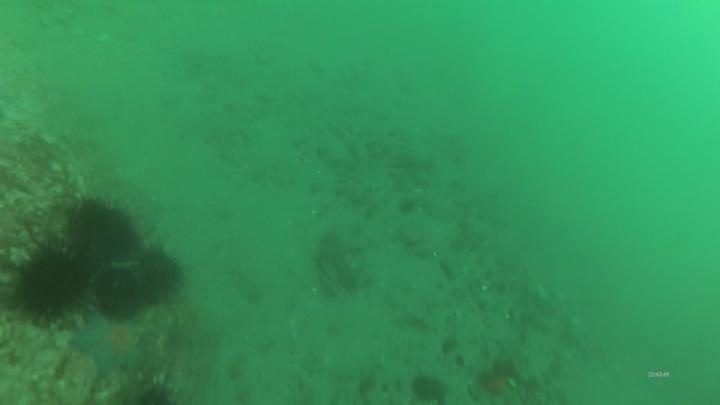echinus: (8, 240, 92, 325), (63, 193, 142, 267), (125, 240, 188, 306), (89, 263, 144, 319), (119, 373, 186, 405), (409, 372, 450, 404)
starfish: (69, 310, 149, 380), (469, 359, 526, 405)
